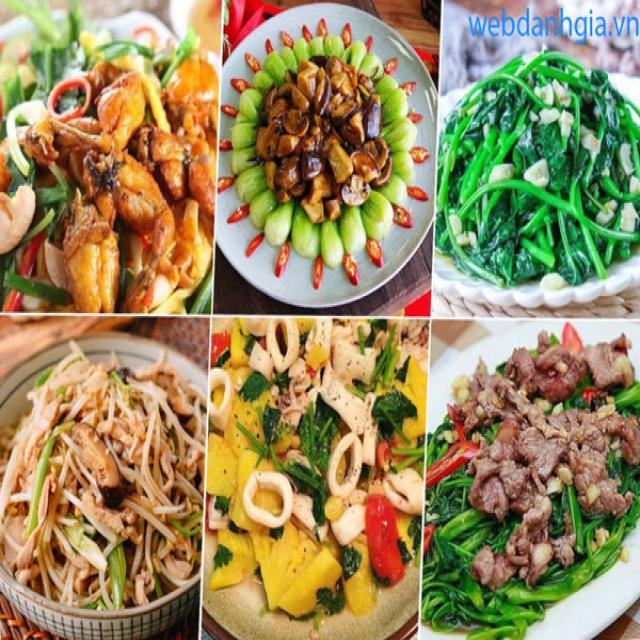bo xao: (435, 347, 640, 639)
dau kho nam: (227, 19, 407, 287)
ech chien mam: (3, 24, 215, 305)
ga xao nam: (0, 354, 191, 615)
muc xao chua ngot: (208, 341, 424, 640)
rau muong xao toi: (435, 37, 640, 307)
